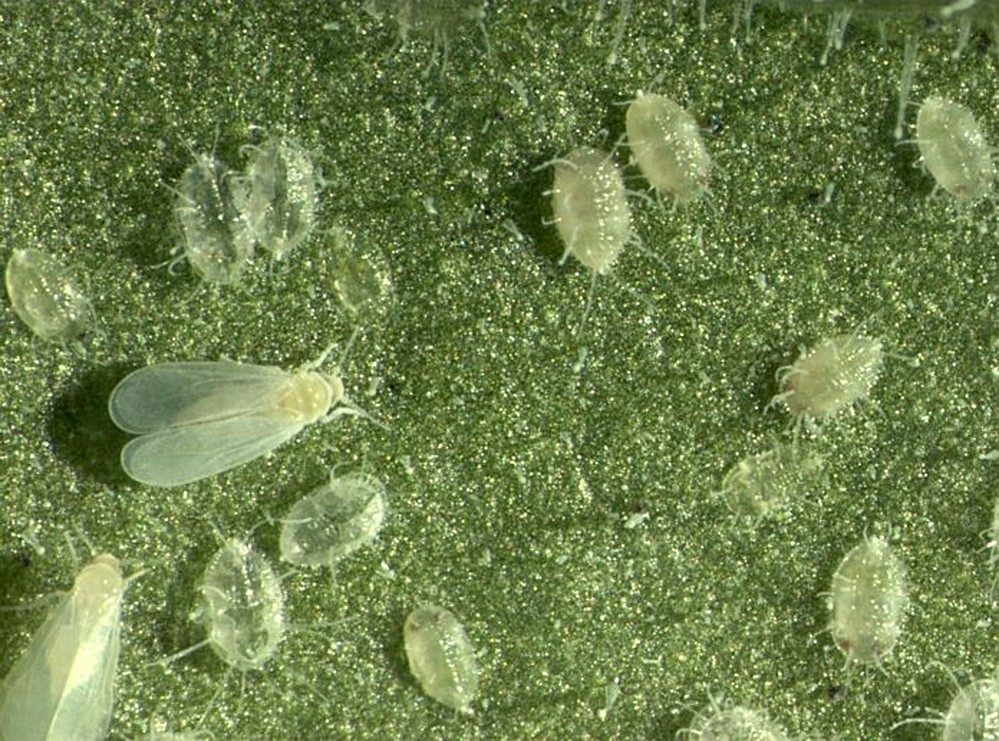Mosca Blanca: (90, 342, 397, 495), (1, 539, 134, 740)
